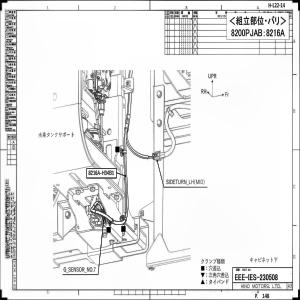PartNumber: (88, 169, 114, 177)
